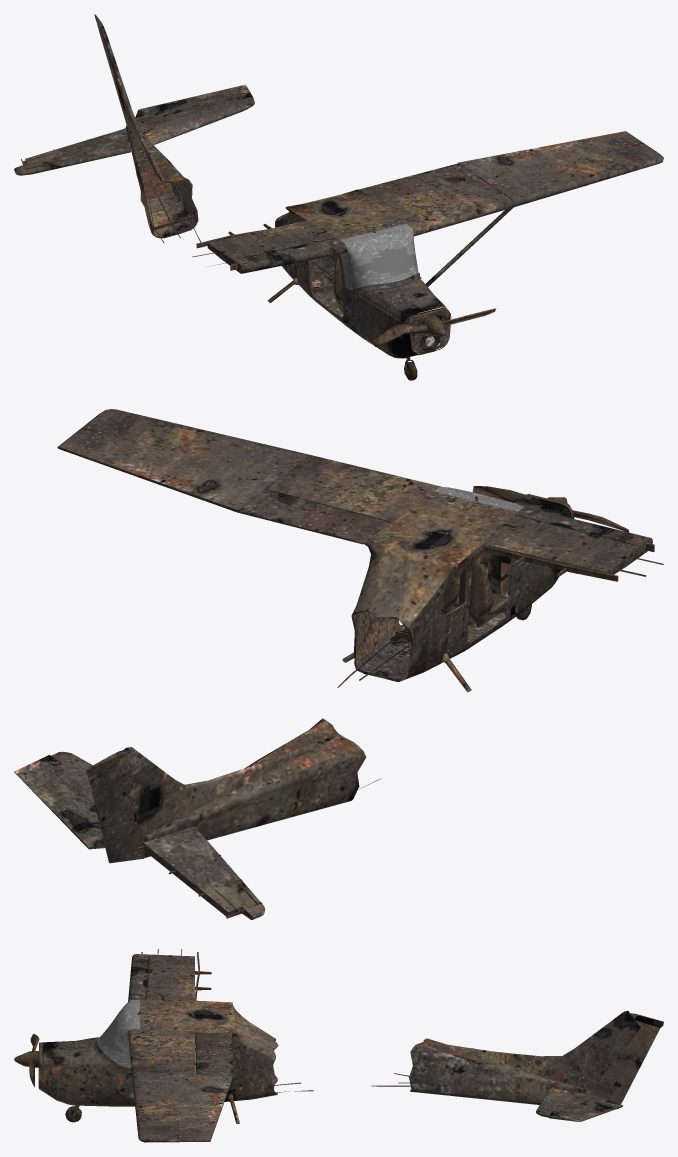
Rendered from divesite_plane.glb.
3 views of the same model, one above another, from view 1: azimuth 30°, elevation 25°; view 2: azimuth 150°, elevation 25°; view 3: azimuth 270°, elevation 25° (orthographic). The views are drawn at different scales.
Visible parts, largest first — view 1: divesite_plane_LOD0; view 2: divesite_plane_LOD0; view 3: divesite_plane_LOD0.
Part boxes in pixels (box(x1,y1,x2,y2)): divesite_plane_LOD0: box(14, 14, 663, 380); divesite_plane_LOD0: box(14, 409, 663, 919); divesite_plane_LOD0: box(14, 949, 663, 1142).
Bounding box in the file's own units: 10.78 × 2.87 × 15.09.
Materials: 3 (3 with a texture image).
